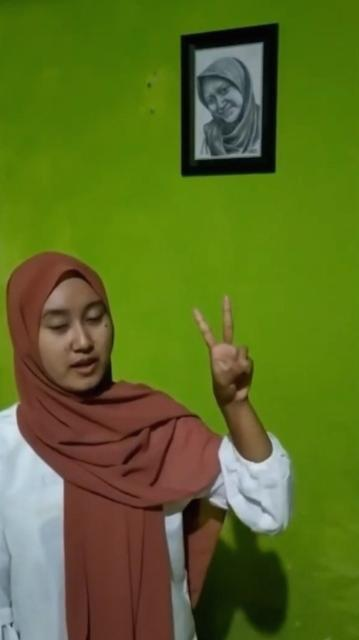V: (184, 286, 258, 408)
